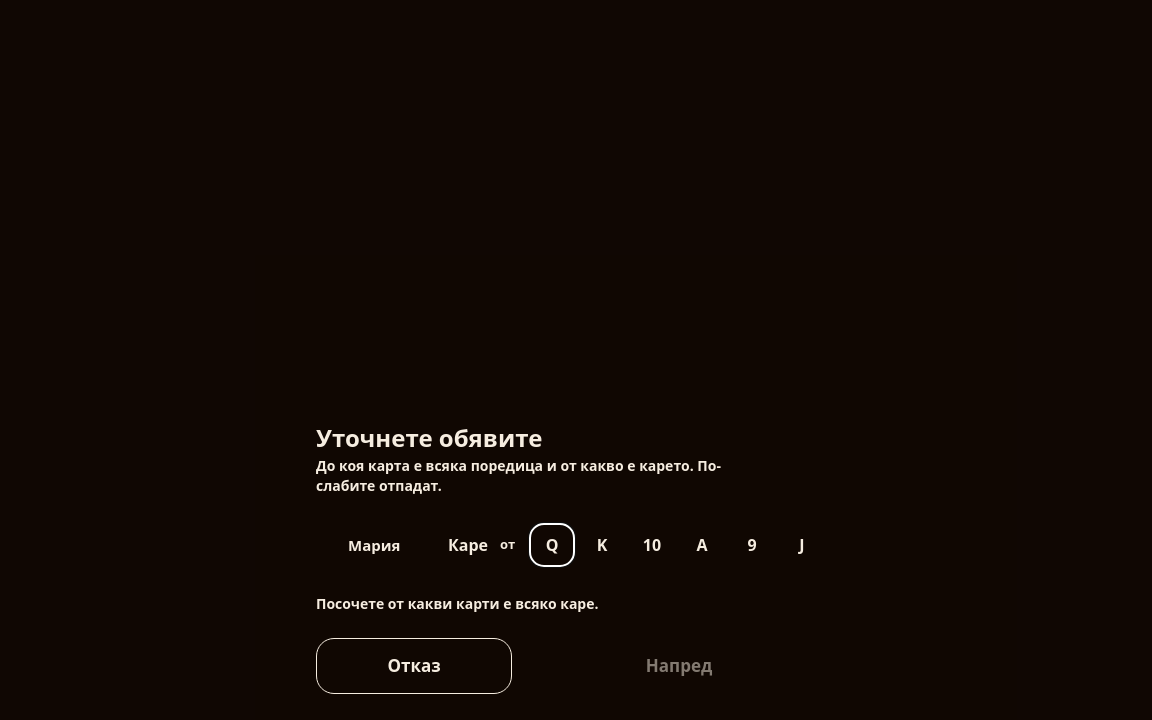
DealEndSheet, step 1 › shows a four of a kind with "от" and the ranks Q K 10 A 9 J, labelled by its points once ranked
Expected: the text "Каре" is shown, [448, 533, 488, 557]
Expected: the text "от" is shown, [500, 535, 515, 553]
Click the radio button labelled "J". click: click(802, 545)
box: [780, 524, 824, 566]
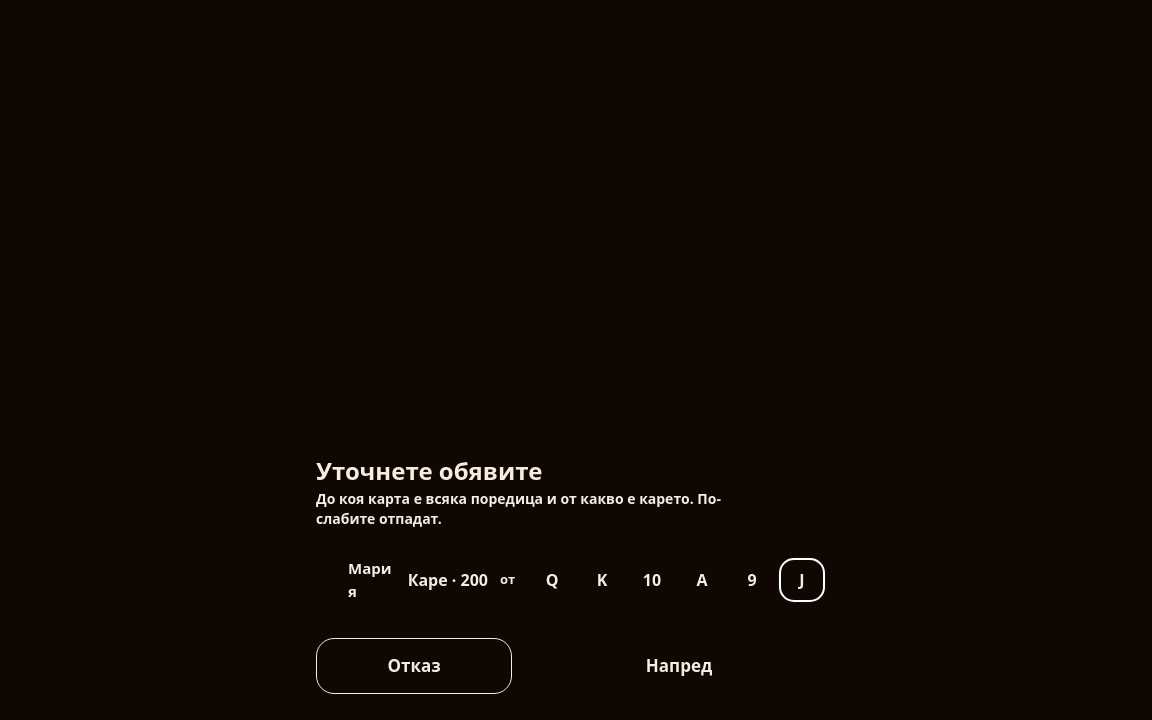
Now the text "Каре · 200" is shown, box [408, 568, 488, 592]
